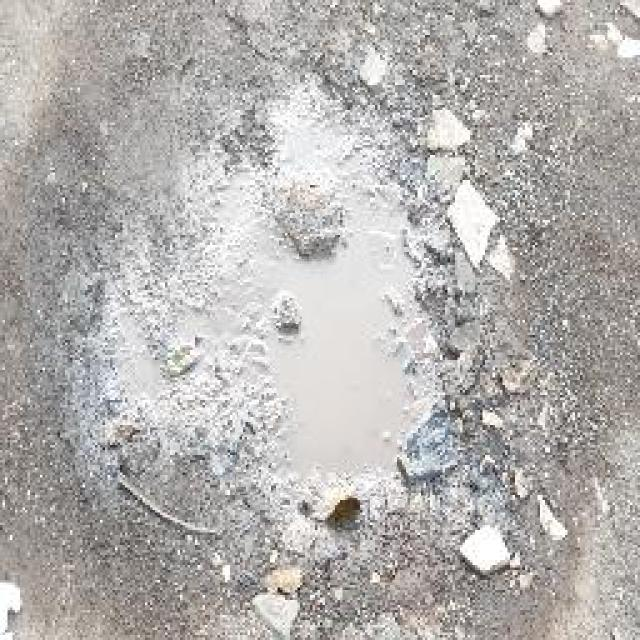puddle: (237, 204, 438, 500)
